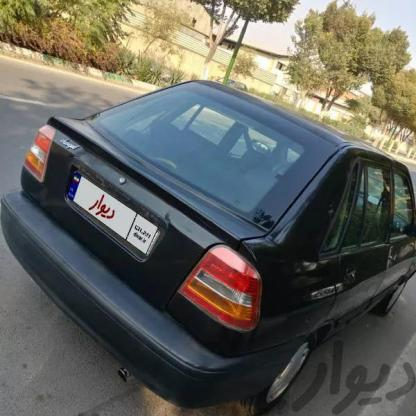Car: (1, 80, 416, 416)
